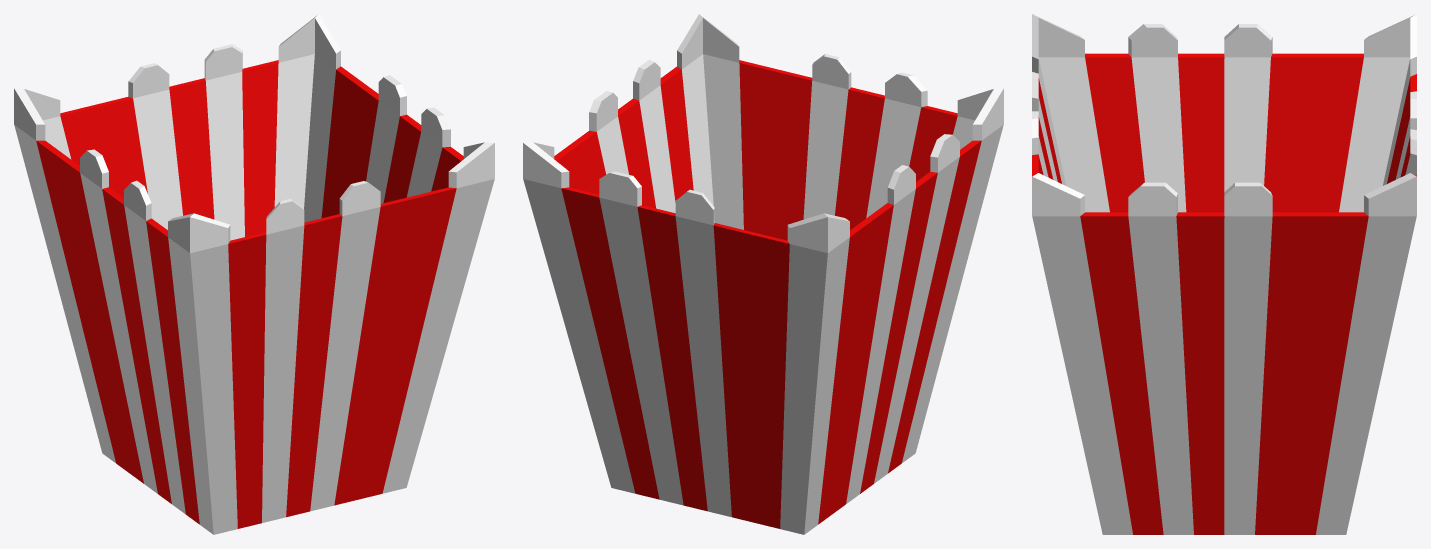
File: bucket.fbx
3 views of the same model, side by side, from view 1: azimuth 30°, elevation 25°; view 2: azimuth 150°, elevation 25°; view 3: azimuth 270°, elevation 25° (orthographic). The views are drawn at different scales.
Visible parts, largest first — view 1: Cube; view 2: Cube; view 3: Cube.
Boxes of the visible parts, x1,y1,x2,y2 form: Cube: [14, 14, 494, 534]; Cube: [523, 14, 1003, 534]; Cube: [1032, 14, 1416, 534].
Size of the model in its own units: 200 by 223 by 200.
